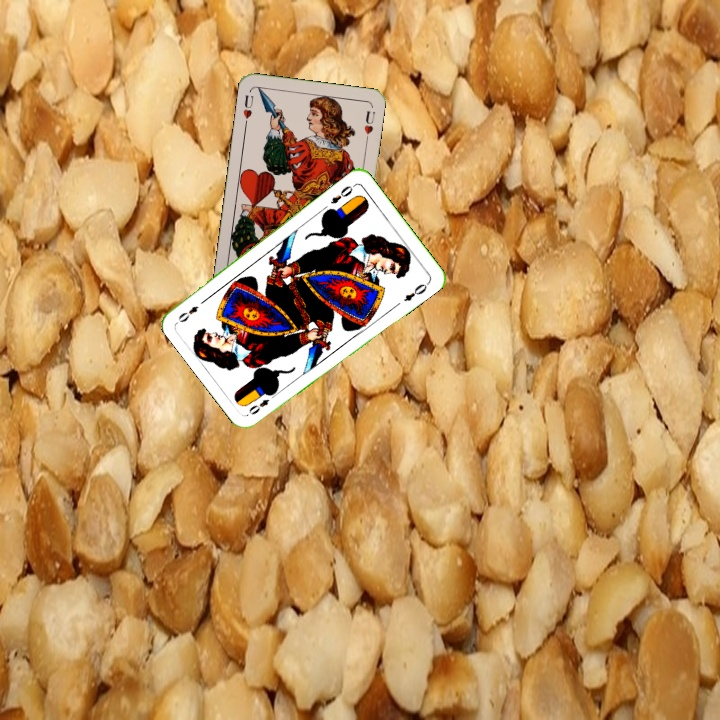EO: (245, 388, 280, 417), (326, 180, 358, 206)
HU: (239, 91, 256, 128)
